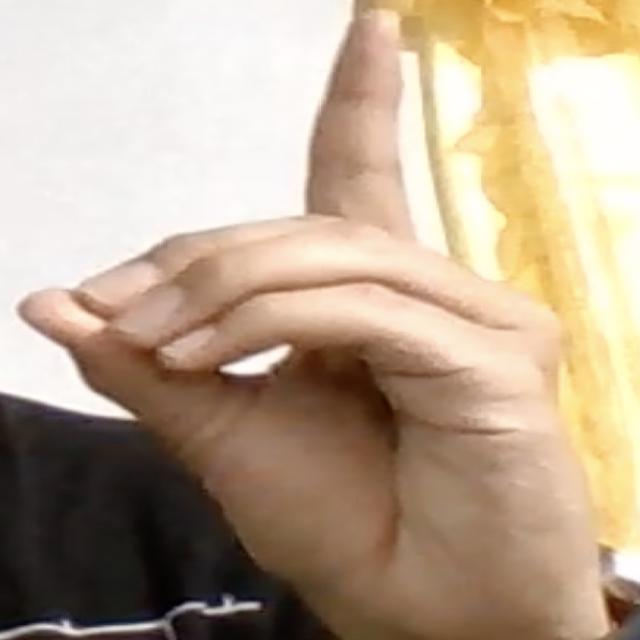D: (15, 2, 607, 626)
